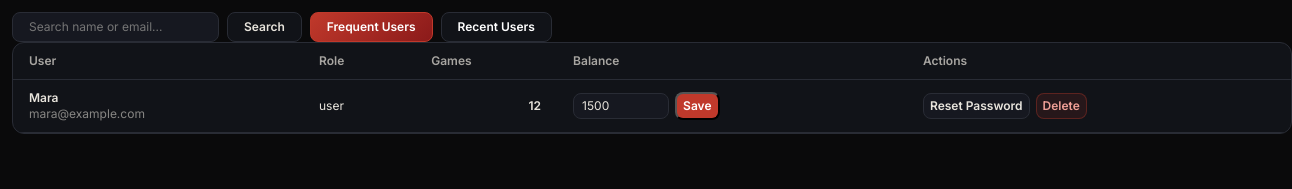
Test: AdminUserManagement › keeps the user and shows an error when deletion fails
Check: the text "Mara" is shown, box [29, 90, 58, 105]
Click the button "Delete" at (1061, 106), box [1036, 93, 1087, 119]
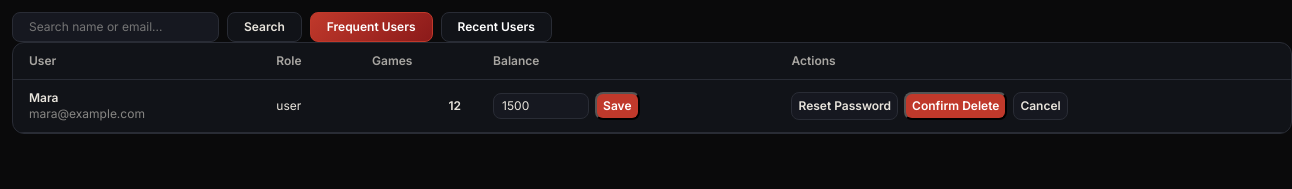
Click the button "Confirm Delete" at (956, 106), box [904, 92, 1007, 120]
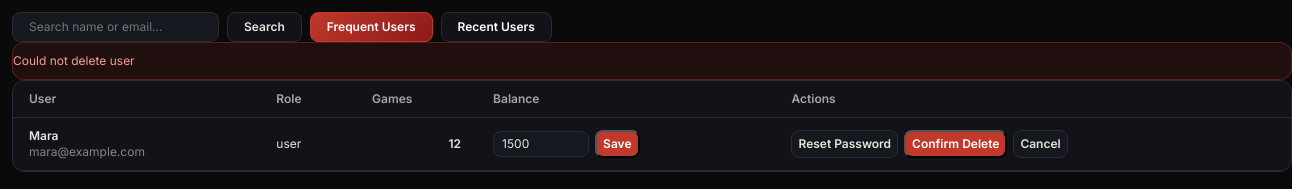
Check: the text "Mara" is shown, box [29, 128, 58, 143]
Check: the message reads "Could not delete user", box [13, 53, 135, 68]
